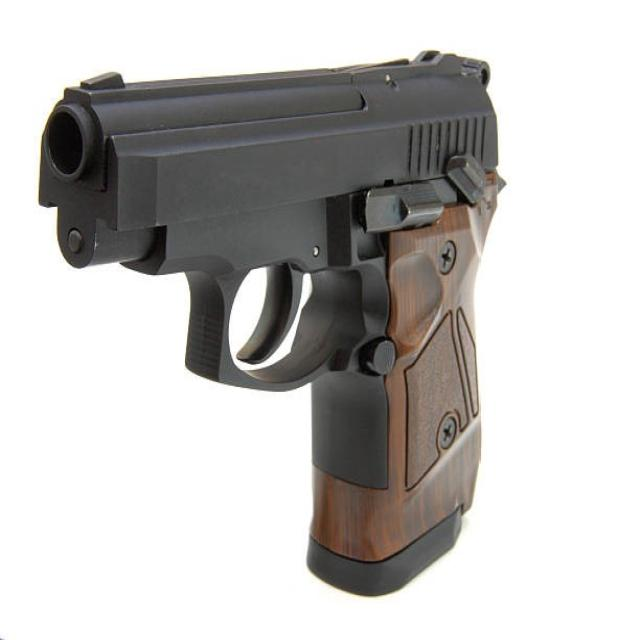pistol: (34, 34, 509, 599)
